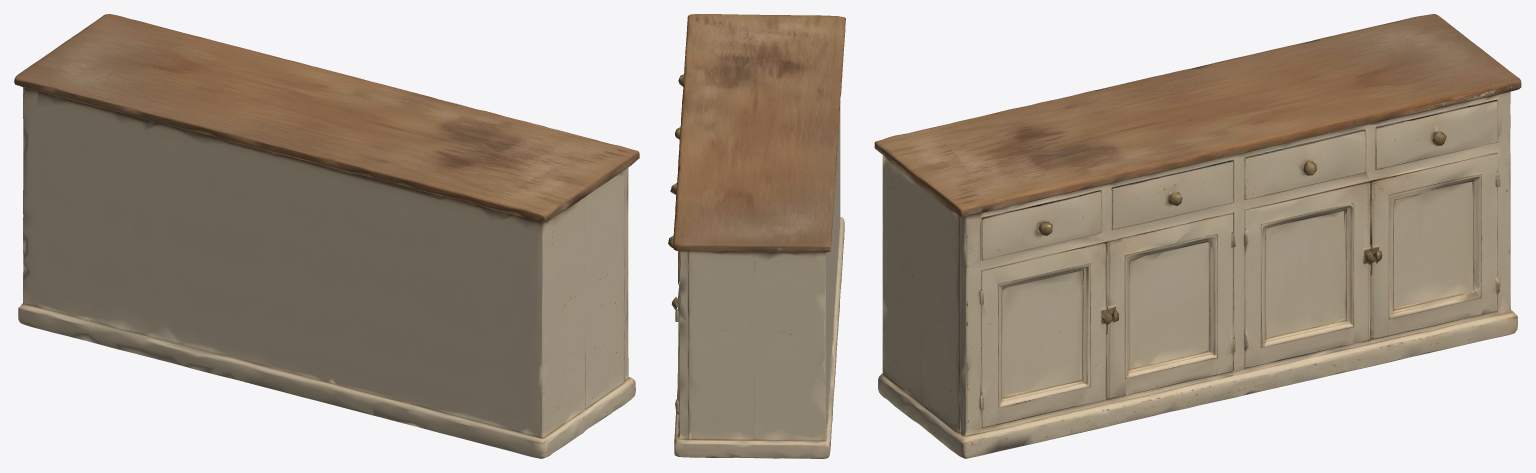
Rendered from k_counter.glb.
3 views of the same model, side by side, from view 1: azimuth 30°, elevation 25°; view 2: azimuth 150°, elevation 25°; view 3: azimuth 270°, elevation 25° (orthographic). The views are drawn at different scales.
Parts seen in each view (by area): view 1: tripo_node_d6ff4cbc-cc23-4a3d-a7b9-996f2082f5df; view 2: tripo_node_d6ff4cbc-cc23-4a3d-a7b9-996f2082f5df; view 3: tripo_node_d6ff4cbc-cc23-4a3d-a7b9-996f2082f5df.
Boxes of the visible parts, x1=… form: tripo_node_d6ff4cbc-cc23-4a3d-a7b9-996f2082f5df: x1=14, y1=14, x2=639, y2=458; tripo_node_d6ff4cbc-cc23-4a3d-a7b9-996f2082f5df: x1=668, y1=14, x2=845, y2=458; tripo_node_d6ff4cbc-cc23-4a3d-a7b9-996f2082f5df: x1=874, y1=14, x2=1521, y2=458.
Bounding box in the file's own units: 0.7261 × 0.4346 × 1.01.
1 material, 1 textured.
